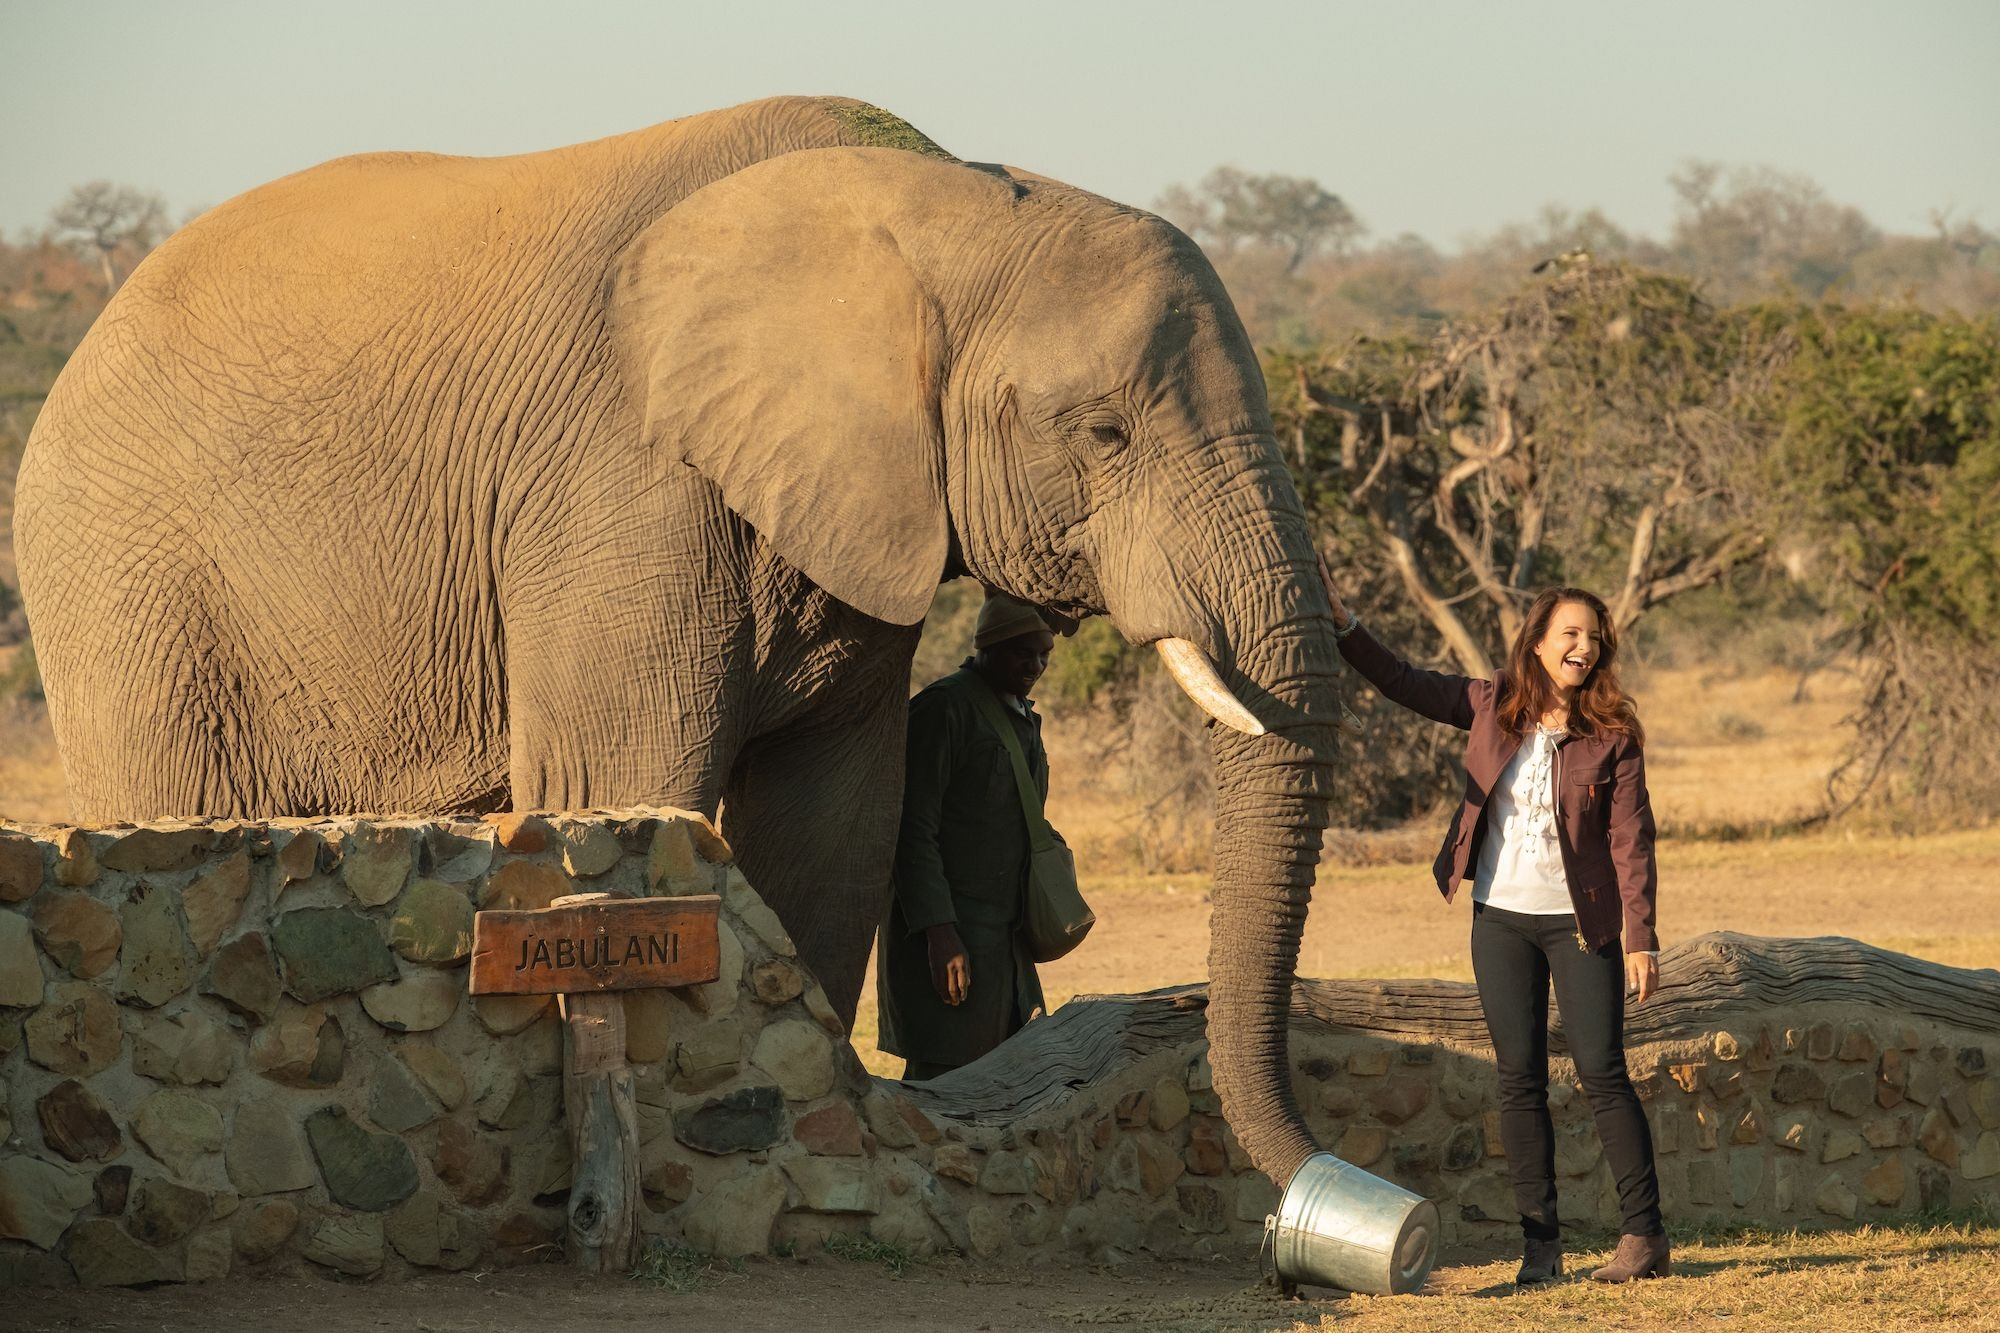elephant: (18, 88, 1359, 1247)
